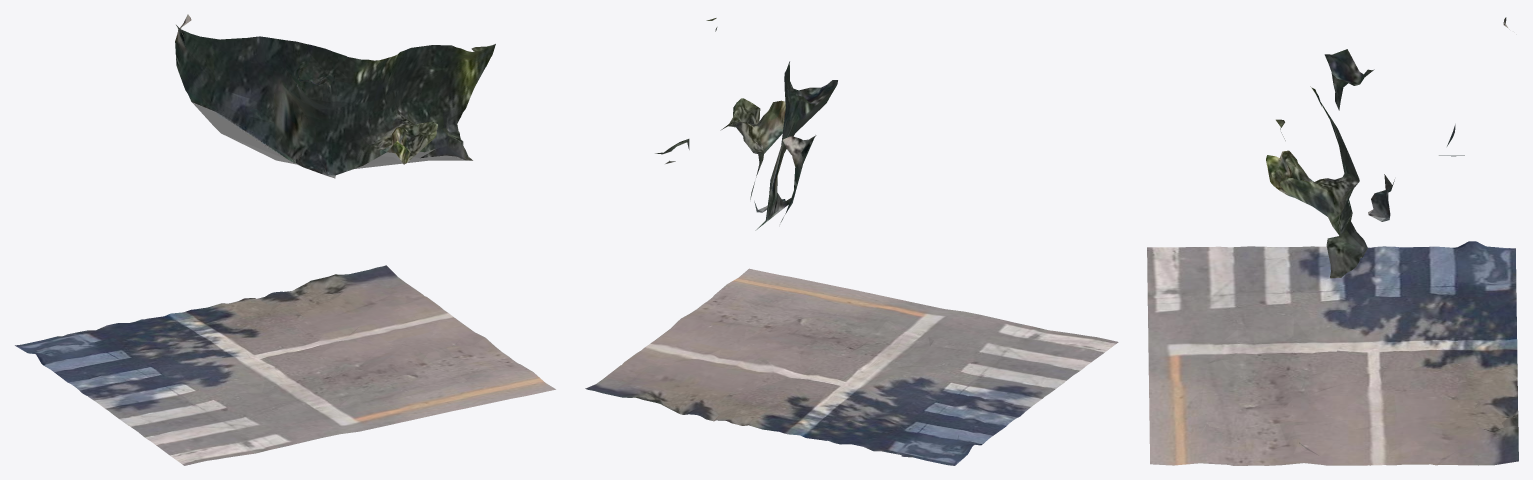
The model's file is Tile_+006_+007_L22_0000320.glb.
3 views of the same model, side by side, from view 1: azimuth 30°, elevation 25°; view 2: azimuth 150°, elevation 25°; view 3: azimuth 270°, elevation 25° (orthographic). The views are drawn at different scales.
Parts seen in each view (by area): view 1: rtc; view 2: rtc; view 3: rtc.
Boxes of the visible parts, <box> form: rtc: <box>15,14,555,465</box>; rtc: <box>585,18,1118,465</box>; rtc: <box>1147,17,1518,465</box>.
Size of the model in its own units: 8.86 by 6.91 by 6.93.
1 material, 1 textured.
